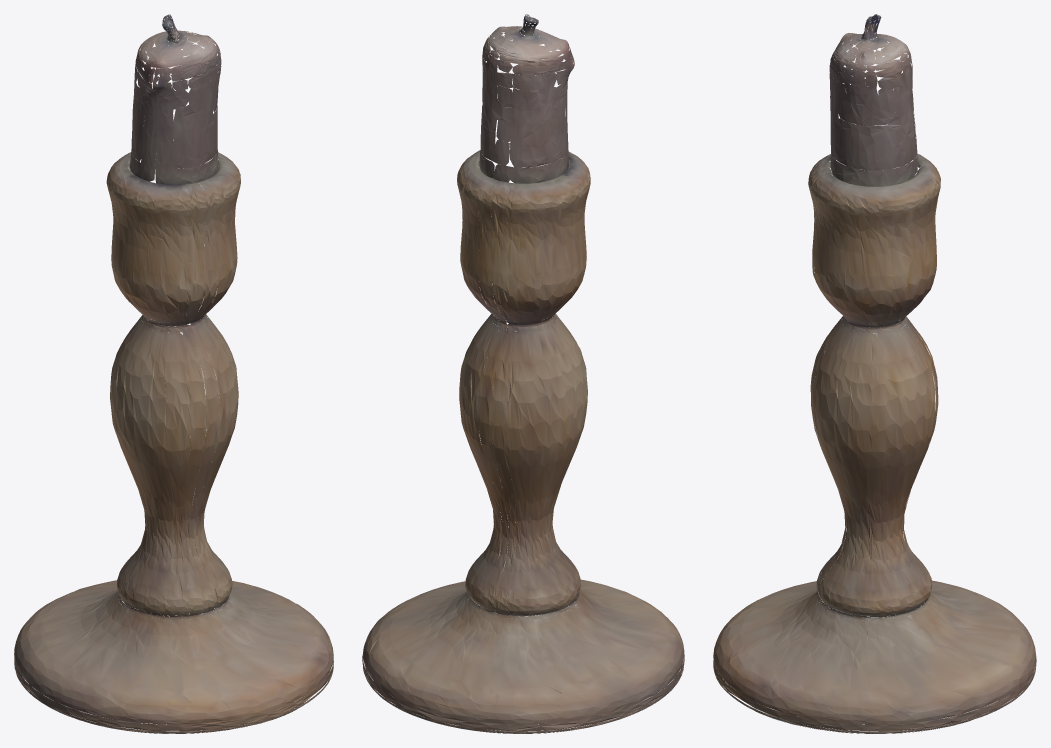
File: wooden_candlestick.glb
3 views of the same model, side by side, from view 1: azimuth 30°, elevation 25°; view 2: azimuth 150°, elevation 25°; view 3: azimuth 270°, elevation 25° (orthographic).
Visible parts, largest first — view 1: geometry_0; view 2: geometry_0; view 3: geometry_0.
Boxes of the visible parts, x1,y1,x2,y2 form: geometry_0: (14, 14, 333, 733); geometry_0: (362, 14, 684, 733); geometry_0: (713, 14, 1036, 733).
Bounding box in the file's own units: 0.0973 × 0.2197 × 0.0988.
